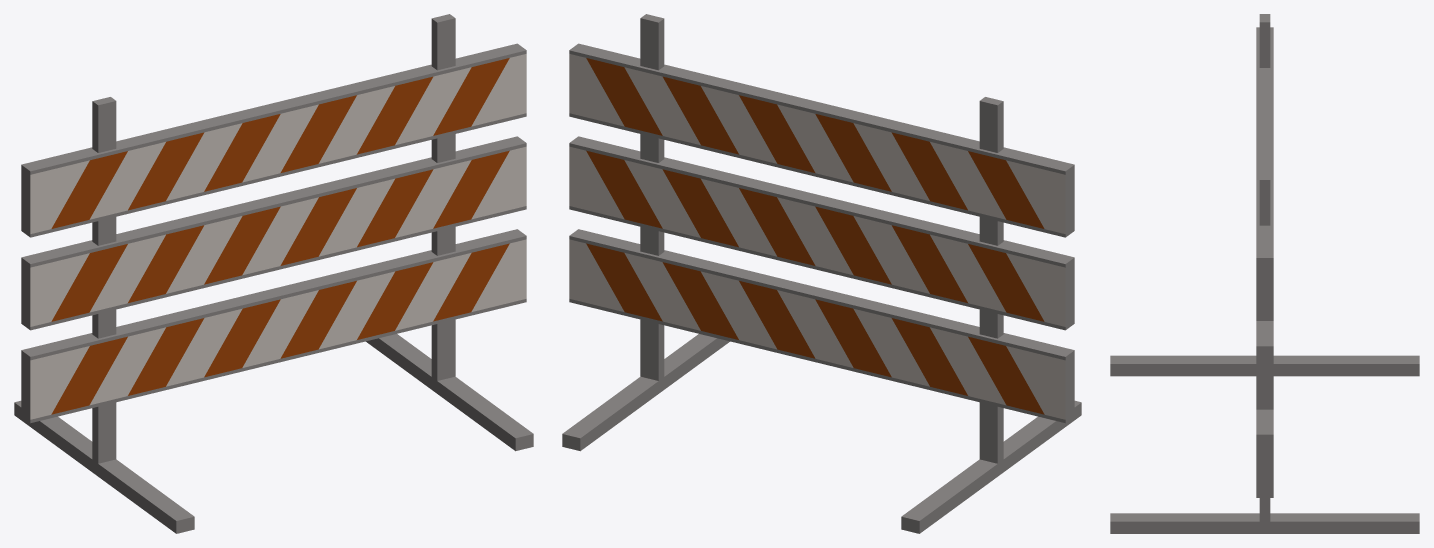
Rendered from barrier.glb.
3 views of the same model, side by side, from view 1: azimuth 30°, elevation 25°; view 2: azimuth 150°, elevation 25°; view 3: azimuth 270°, elevation 25° (orthographic). The views are drawn at different scales.
Visible parts, largest first — view 1: TrafficBarrier_1; view 2: TrafficBarrier_1; view 3: TrafficBarrier_1.
Boxes of the visible parts, x1,y1,x2,y2 form: TrafficBarrier_1: [14, 14, 533, 533]; TrafficBarrier_1: [562, 14, 1081, 533]; TrafficBarrier_1: [1110, 14, 1419, 533].
Bounding box in the file's own units: 1.56 × 1.11 × 0.8806.
1 material, 1 textured.
